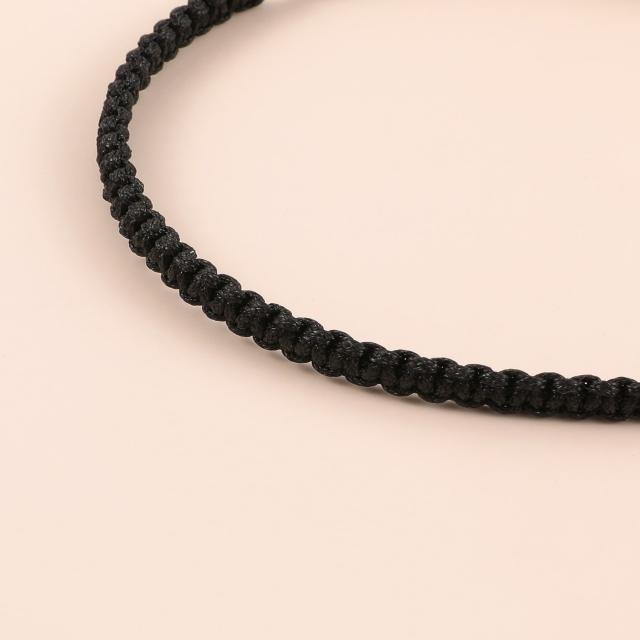bracelet: (46, 0, 640, 436)
